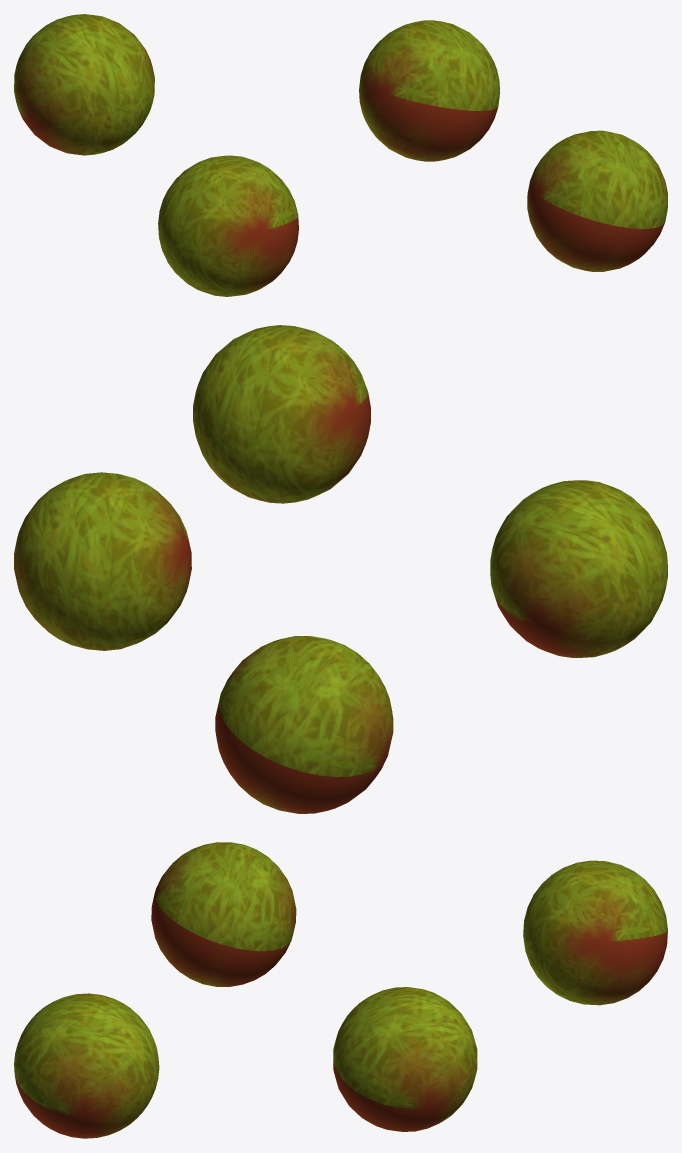
Rendered from TropicalGrassSeeds.fbx.
3 renders of one model, top to bottom at view 1: azimuth 30°, elevation 25°; view 2: azimuth 150°, elevation 25°; view 3: azimuth 270°, elevation 25°, orthographic. The views are drawn at different scales.
Parts seen in each view (by area): view 1: Sphere (1), Sphere, Sphere (2), Sphere (3); view 2: Sphere (2), Sphere (3), Sphere, Sphere (1); view 3: Sphere (3), Sphere (2), Sphere (1), Sphere.
Part boxes in pixels (left/top/right/bottom): Sphere (1): left=359, top=20, right=499, bottom=161; Sphere: left=158, top=155, right=298, bottom=296; Sphere (2): left=14, top=14, right=154, bottom=155; Sphere (3): left=527, top=130, right=667, bottom=271; Sphere (2): left=215, top=636, right=393, bottom=813; Sphere (3): left=193, top=325, right=370, bottom=503; Sphere: left=490, top=480, right=667, bottom=657; Sphere (1): left=14, top=472, right=191, bottom=650; Sphere (3): left=14, top=993, right=159, bottom=1138; Sphere (2): left=523, top=860, right=667, bottom=1005; Sphere (1): left=333, top=987, right=477, bottom=1131; Sphere: left=151, top=842, right=296, bottom=986.
Bounding box in the file's own units: 0.5184 × 0.1491 × 0.6732.
1 material, 1 textured.
